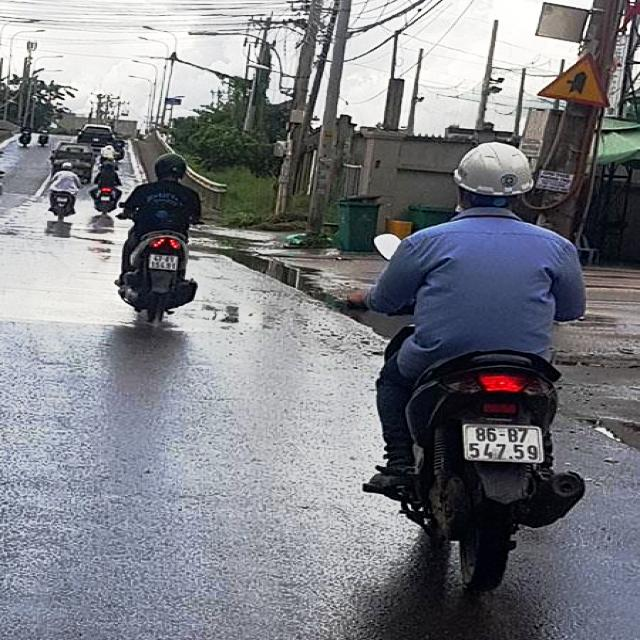license_plate: (462, 425, 550, 467)
